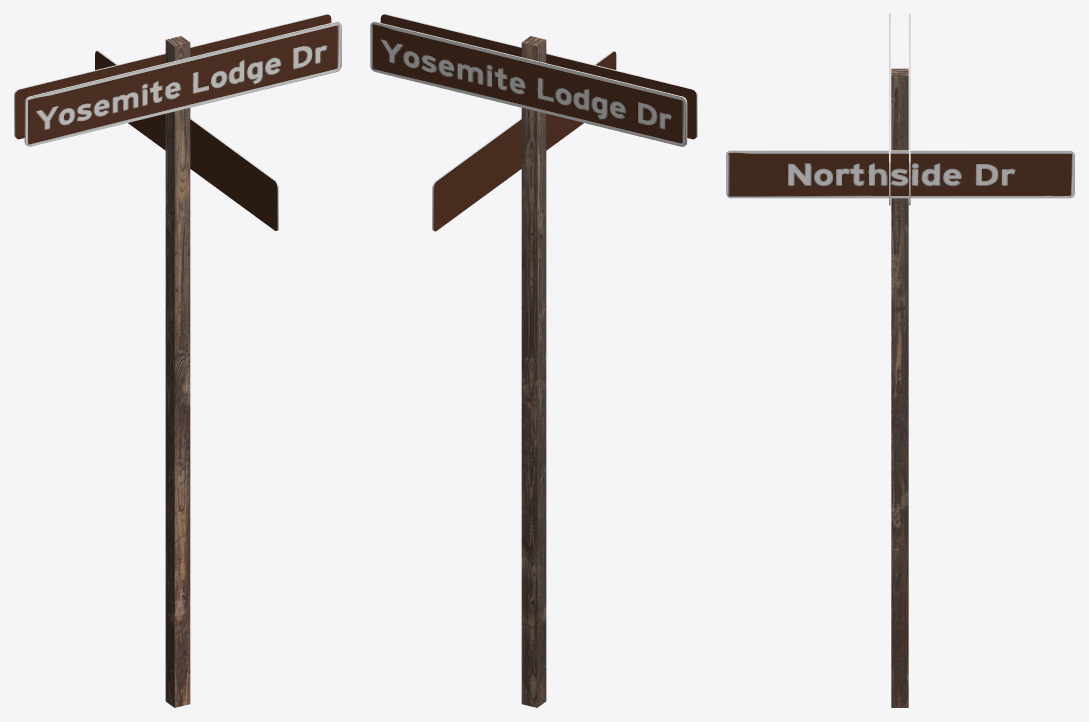
File: YOS_Sign_20.fbx
3 renders of one model, left to right at view 1: azimuth 30°, elevation 25°; view 2: azimuth 150°, elevation 25°; view 3: azimuth 270°, elevation 25°, orthographic. The views are drawn at different scales.
Parts seen in each view (by area): view 1: Village_Dr_1, WoodPost_2, Northside_Dr, Village_Dr; view 2: Village_Dr, WoodPost_2, Northside_Dr, Village_Dr_1; view 3: Northside_Dr, WoodPost_2.
Boxes of the visible parts, left/top/right/bottom form: Village_Dr_1: left=24, top=21, right=341, bottom=146; WoodPost_2: left=165, top=36, right=190, bottom=707; Northside_Dr: left=95, top=50, right=278, bottom=230; Village_Dr: left=14, top=14, right=331, bottom=139; Village_Dr: left=370, top=21, right=687, bottom=146; WoodPost_2: left=521, top=36, right=546, bottom=707; Northside_Dr: left=432, top=51, right=616, bottom=231; Village_Dr_1: left=380, top=14, right=697, bottom=139; Northside_Dr: left=726, top=150, right=1074, bottom=198; WoodPost_2: left=891, top=68, right=908, bottom=707.
Size of the model in its own units: 100 by 200 by 100.
